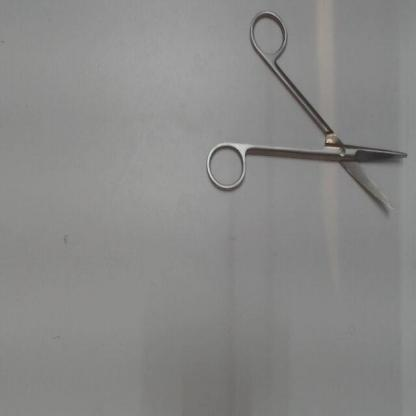Curved Mayo Scissors: (200, 6, 415, 217)
